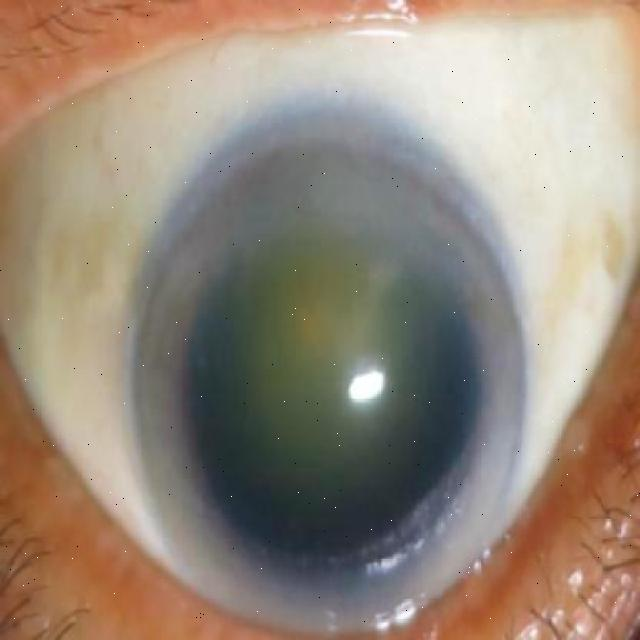Cataract: (127, 142, 526, 632)
